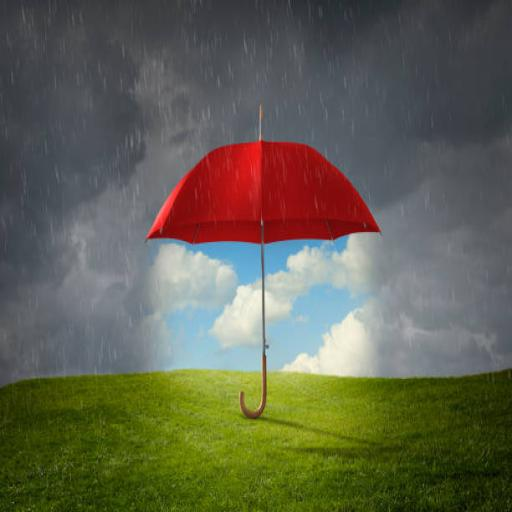guarda_chuva: (144, 103, 381, 418)
